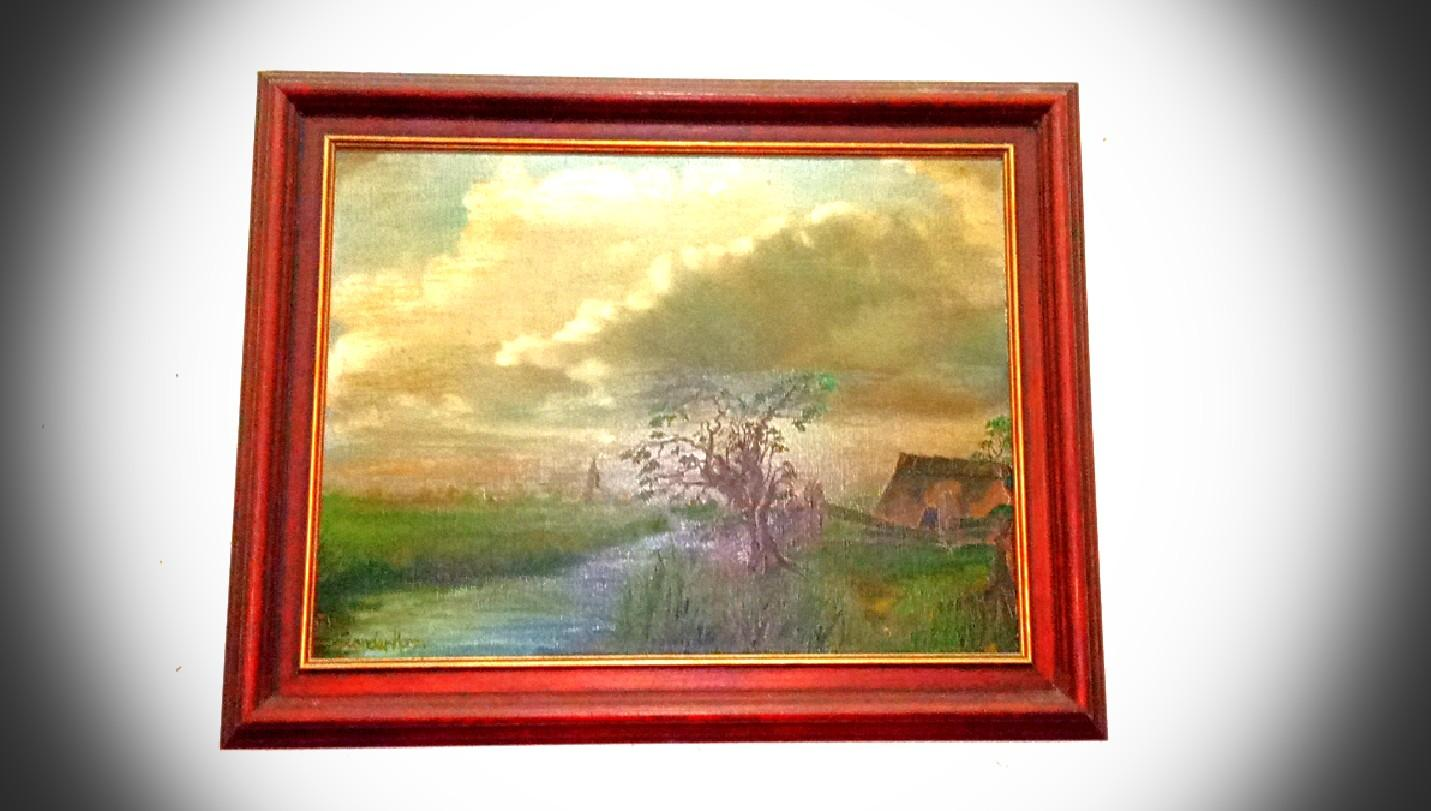lukisan: (210, 48, 1130, 772)
